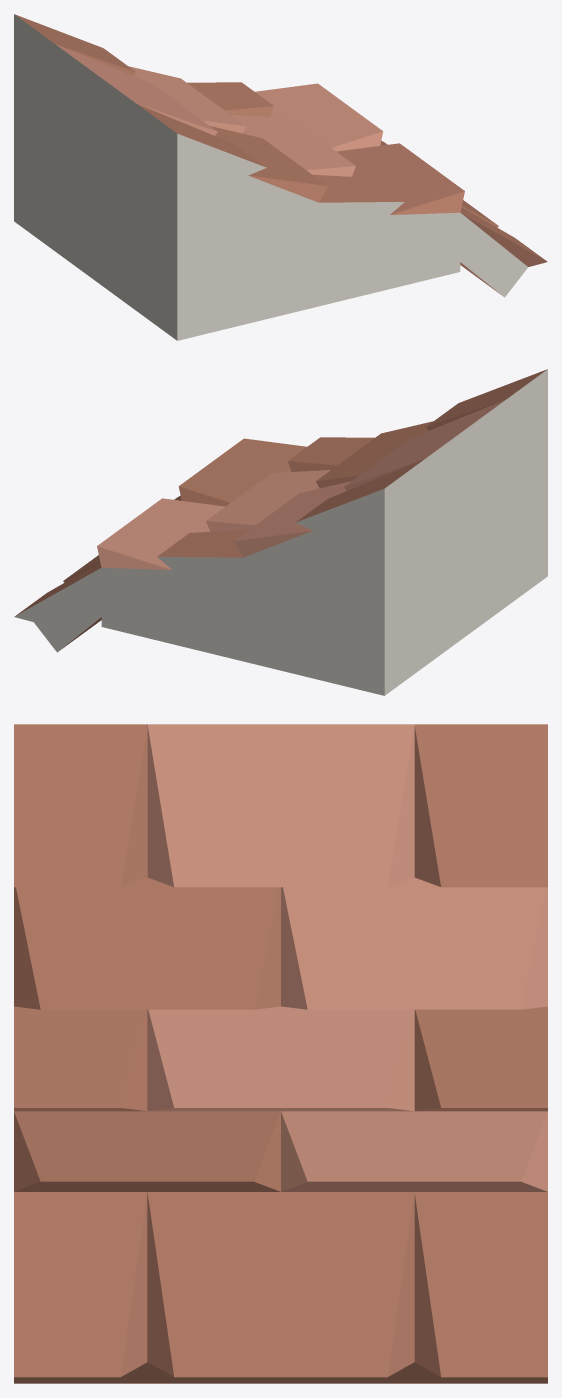
Rendered from Roof_Concave_Side_Eave.glb.
3 views of the same model, one above another, from view 1: azimuth 30°, elevation 25°; view 2: azimuth 150°, elevation 25°; view 3: azimuth 270°, elevation 25° (orthographic). The views are drawn at different scales.
Parts seen in each view (by area): view 1: object1; view 2: object1; view 3: object1.
Boxes of the visible parts, <box> form: object1: <box>14,14,547,340</box>; object1: <box>14,369,547,695</box>; object1: <box>14,724,547,1383</box>.
Bounding box in the file's own units: 1.31 × 0.8233 × 1.
